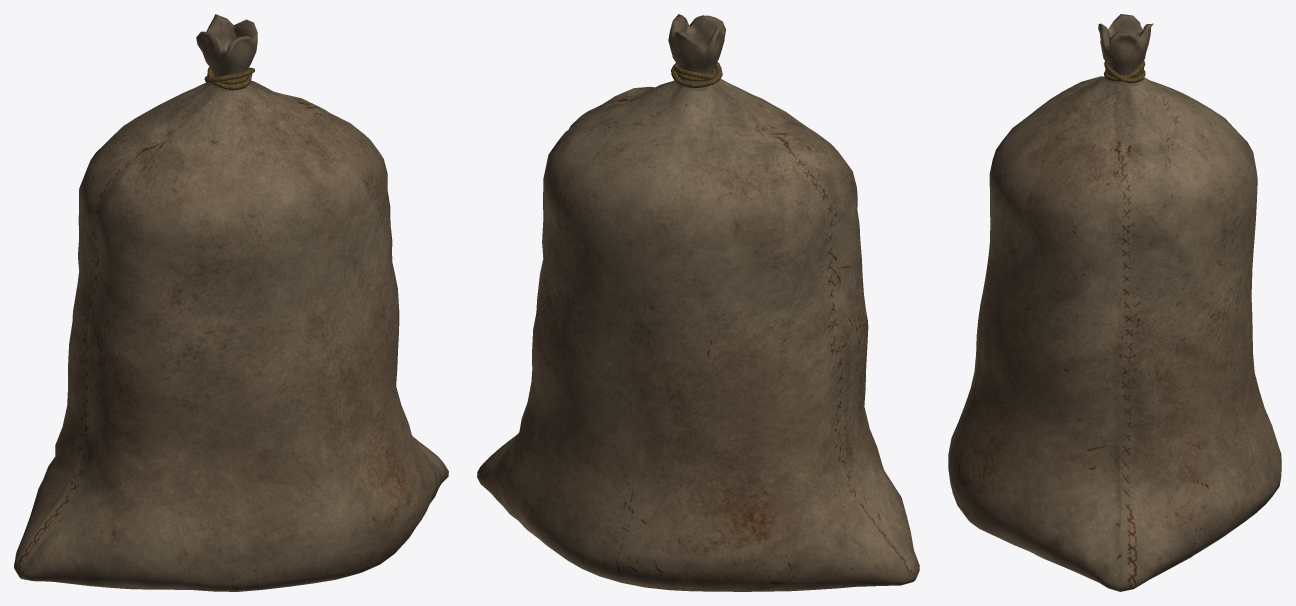
File: sack.glb
3 views of the same model, side by side, from view 1: azimuth 30°, elevation 25°; view 2: azimuth 150°, elevation 25°; view 3: azimuth 270°, elevation 25° (orthographic). The views are drawn at different scales.
Parts seen in each view (by area): view 1: sack; view 2: sack; view 3: sack.
Part boxes in pixels (left/top/right/bottom): sack: left=14, top=14, right=448, bottom=591; sack: left=477, top=14, right=919, bottom=591; sack: left=948, top=14, right=1281, bottom=591.
Size of the model in its own units: 0.8757 by 1 by 0.6294.
Materials: 1 (1 with a texture image).
